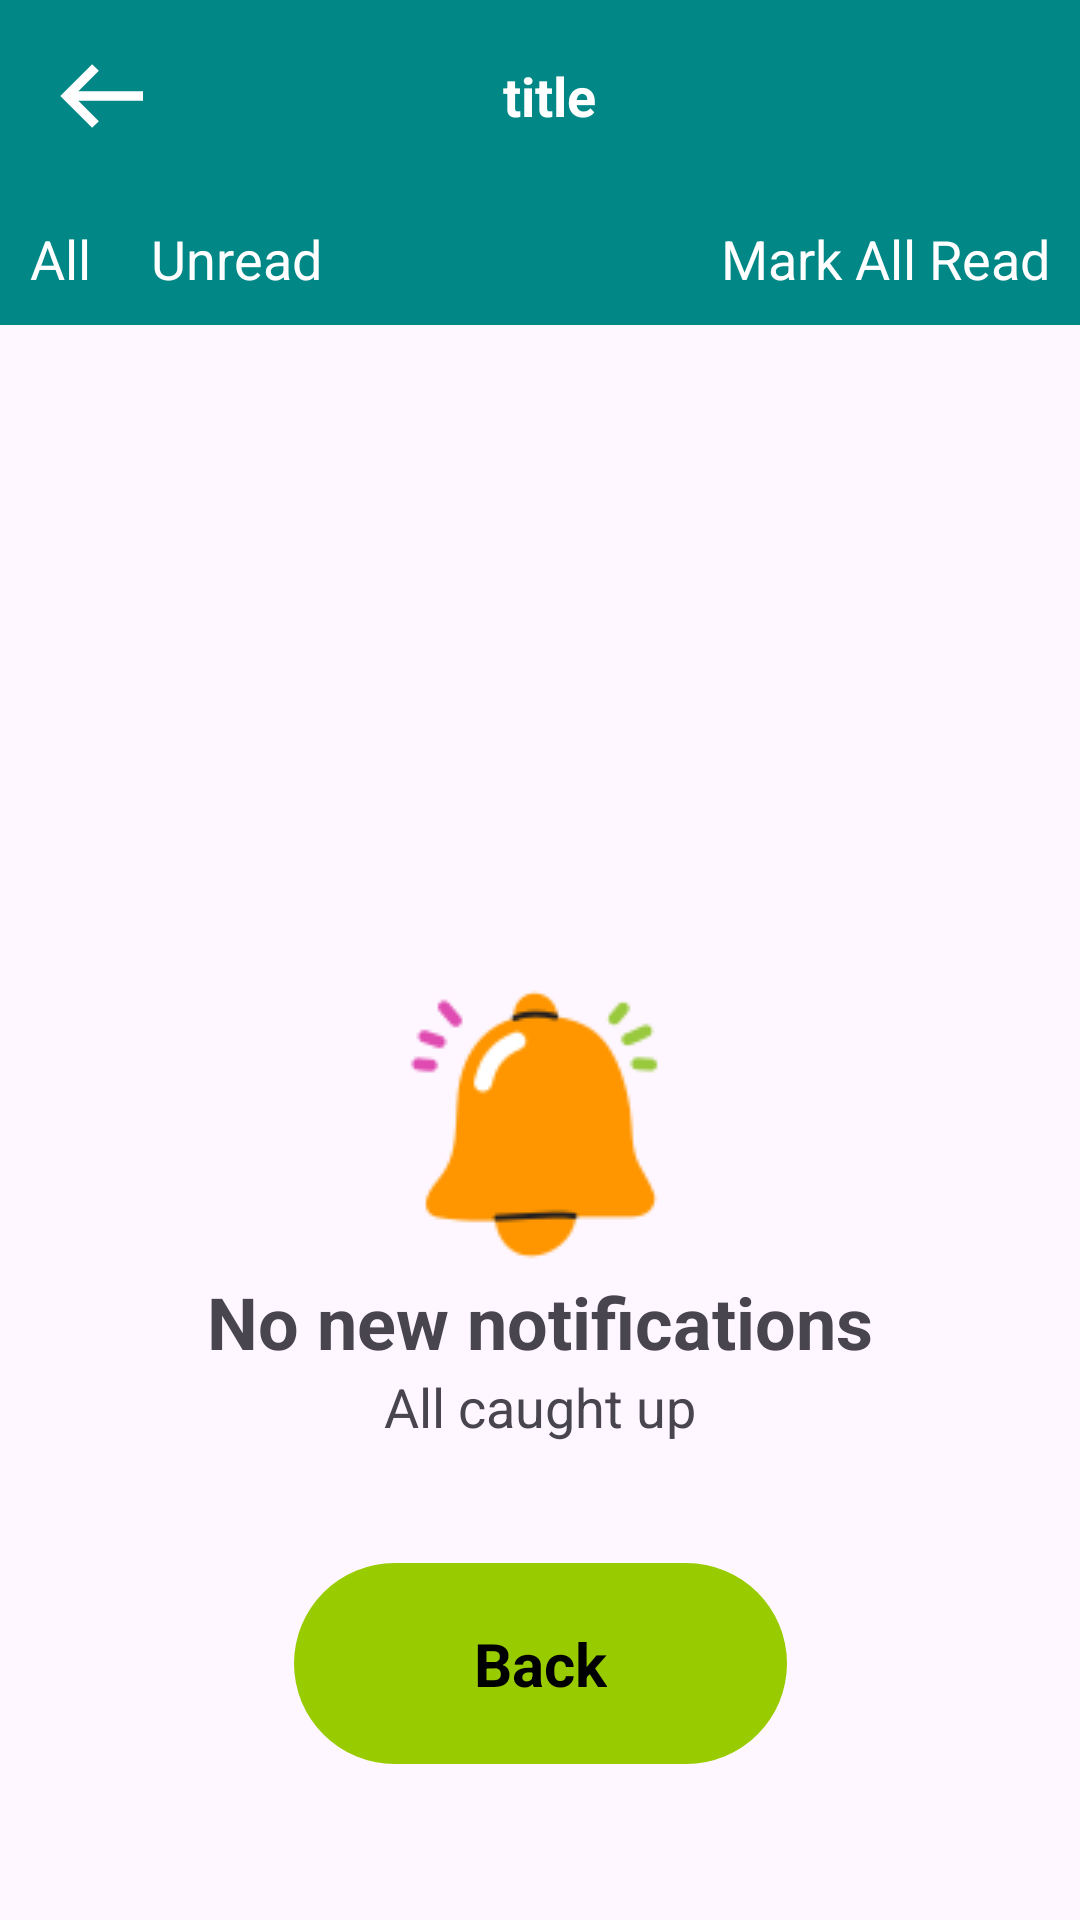

Icons on this 1080px x 1920px Android screen, each with the point to tap as (x,y):
back: (101,96)
bell: (534,1125)
